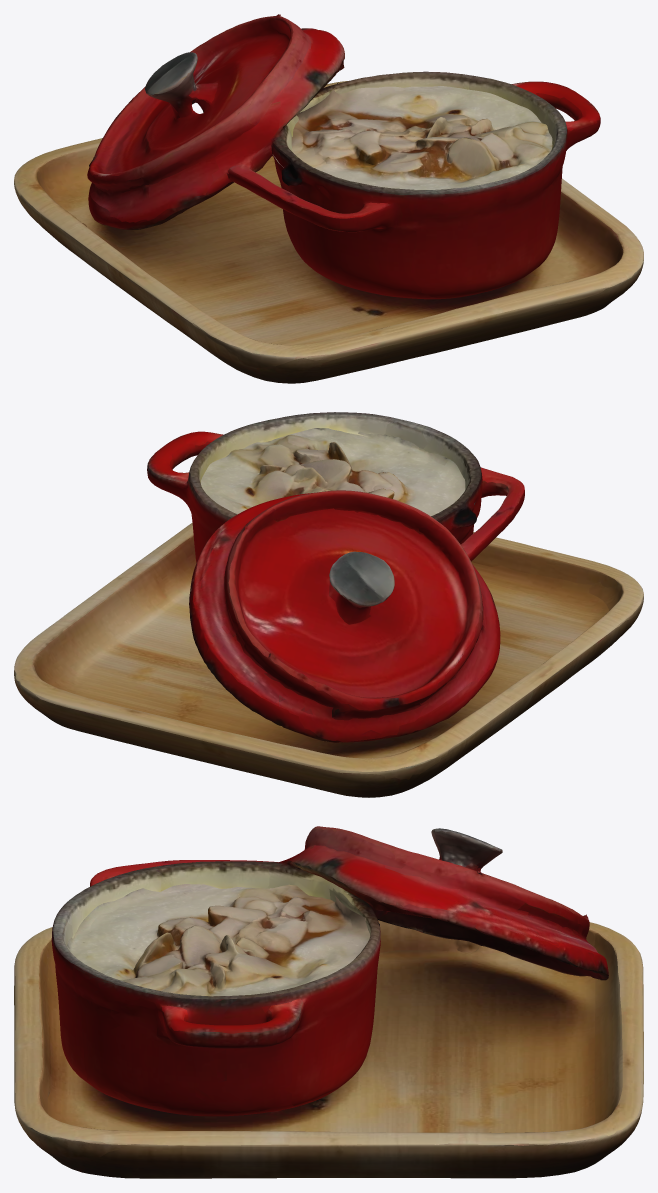
File: set.20.001.glb
3 renders of one model, top to bottom at view 1: azimuth 30°, elevation 25°; view 2: azimuth 150°, elevation 25°; view 3: azimuth 270°, elevation 25°, orthographic. The views are drawn at different scales.
Visible parts, largest first — view 1: /Root/Scenes/Scene/Object_49/Object_51/Object_52/Submesh_0, /Root/Scenes/Scene/Object_49/Object_50/Submesh_0; view 2: /Root/Scenes/Scene/Object_49/Object_51/Object_52/Submesh_0, /Root/Scenes/Scene/Object_49/Object_50/Submesh_0; view 3: /Root/Scenes/Scene/Object_49/Object_51/Object_52/Submesh_0, /Root/Scenes/Scene/Object_49/Object_50/Submesh_0.
Part boxes in pixels (left/top/right/bottom): /Root/Scenes/Scene/Object_49/Object_51/Object_52/Submesh_0: left=14, top=14, right=643, bottom=383; /Root/Scenes/Scene/Object_49/Object_50/Submesh_0: left=273, top=82, right=552, bottom=189; /Root/Scenes/Scene/Object_49/Object_51/Object_52/Submesh_0: left=14, top=412, right=643, bottom=797; /Root/Scenes/Scene/Object_49/Object_50/Submesh_0: left=201, top=428, right=475, bottom=516; /Root/Scenes/Scene/Object_49/Object_51/Object_52/Submesh_0: left=14, top=826, right=643, bottom=1178; /Root/Scenes/Scene/Object_49/Object_50/Submesh_0: left=66, top=884, right=379, bottom=996.
Size of the model in its own units: 0.1934 by 0.0881 by 0.2201.
2 materials, 2 textured.
